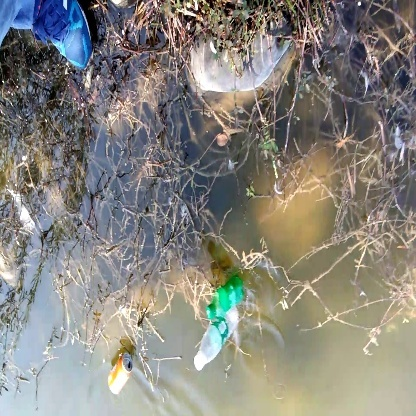bottle: (200, 267, 251, 322)
